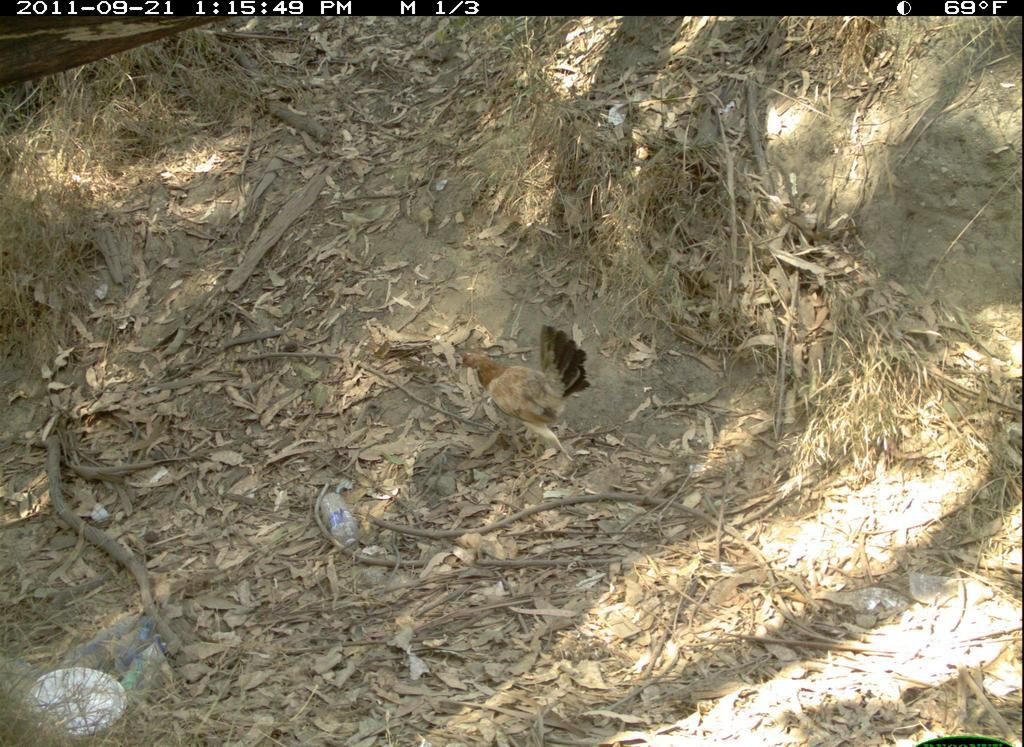bird: (442, 307, 603, 486)
